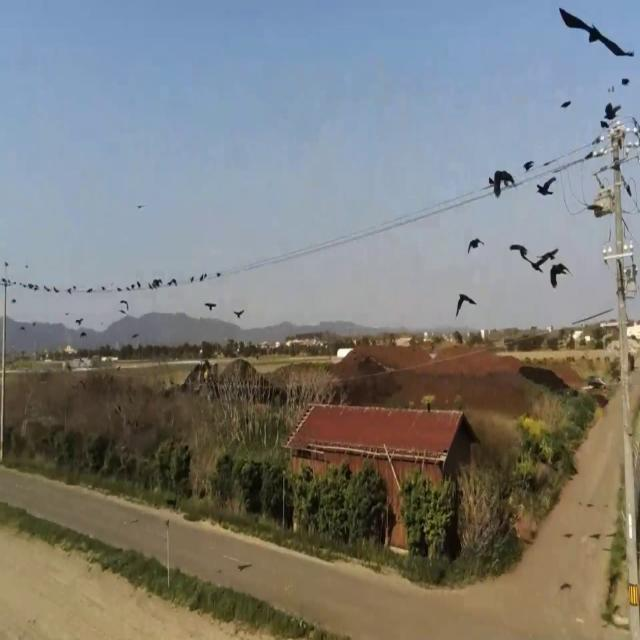bird: (567, 2, 624, 68), (513, 237, 555, 283), (489, 161, 515, 206), (454, 283, 475, 324), (550, 255, 570, 294), (510, 237, 530, 274), (536, 174, 555, 207), (467, 229, 483, 260), (150, 272, 162, 294), (205, 294, 216, 316), (233, 302, 244, 324), (168, 271, 178, 291), (75, 312, 84, 332), (52, 282, 59, 298), (190, 271, 194, 286)
